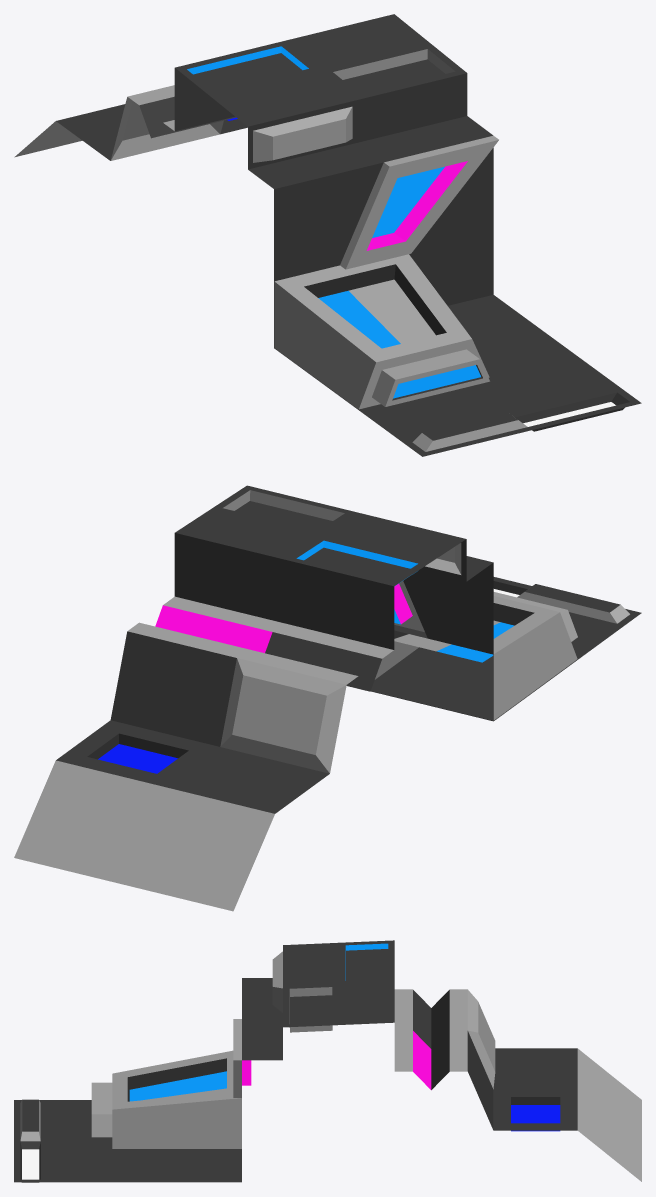
File: ufo2.glb
3 views of the same model, one above another, from view 1: azimuth 30°, elevation 25°; view 2: azimuth 150°, elevation 25°; view 3: azimuth 270°, elevation 25° (orthographic). The views are drawn at different scales.
Parts seen in each view (by area): view 1: Plane; view 2: Plane; view 3: Plane.
Part boxes in pixels (x1=…): Plane: x1=14, y1=14, x2=641, y2=456; Plane: x1=14, y1=485, x2=641, y2=911; Plane: x1=14, y1=940, x2=641, y2=1182.
Size of what is drawn, in the model's own units: 1 by 0.9356 by 3.22.
